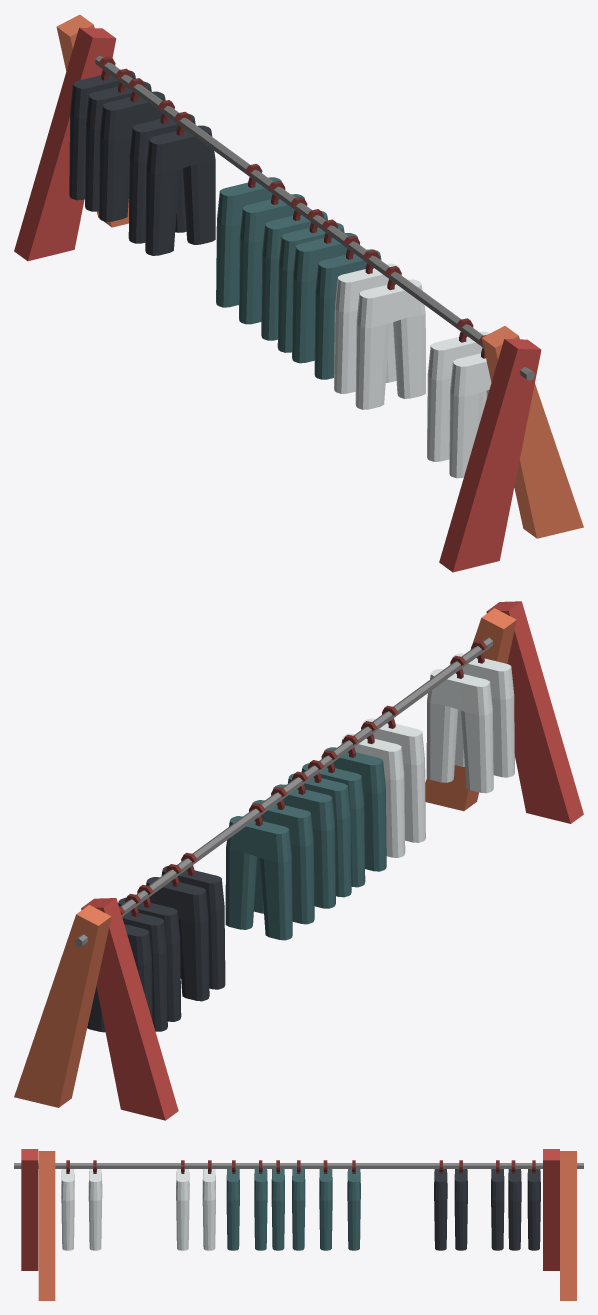
Rendered from long-short.glb.
3 views of the same model, one above another, from view 1: azimuth 30°, elevation 25°; view 2: azimuth 150°, elevation 25°; view 3: azimuth 270°, elevation 25° (orthographic). The views are drawn at different scales.
Visible parts, largest first — view 1: Cylinder.003; view 2: Cylinder.003; view 3: Cylinder.003.
Part boxes in pixels (left/top/right/bottom): Cylinder.003: left=14, top=14, right=583, bottom=572; Cylinder.003: left=14, top=601, right=583, bottom=1120; Cylinder.003: left=14, top=1149, right=583, bottom=1300.
Size of the model in its own units: 5.75 by 7.89 by 31.9.
